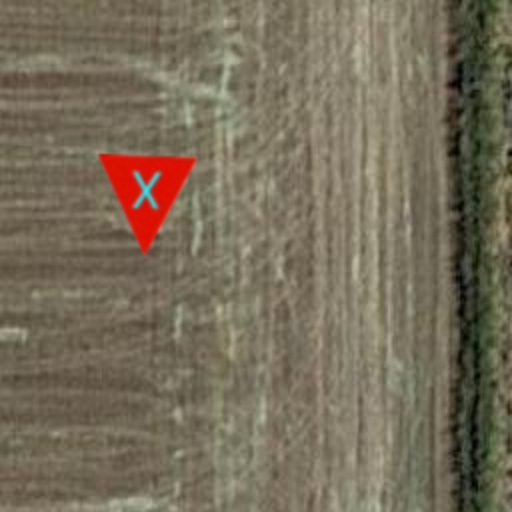triangle: (94, 154, 198, 258)
